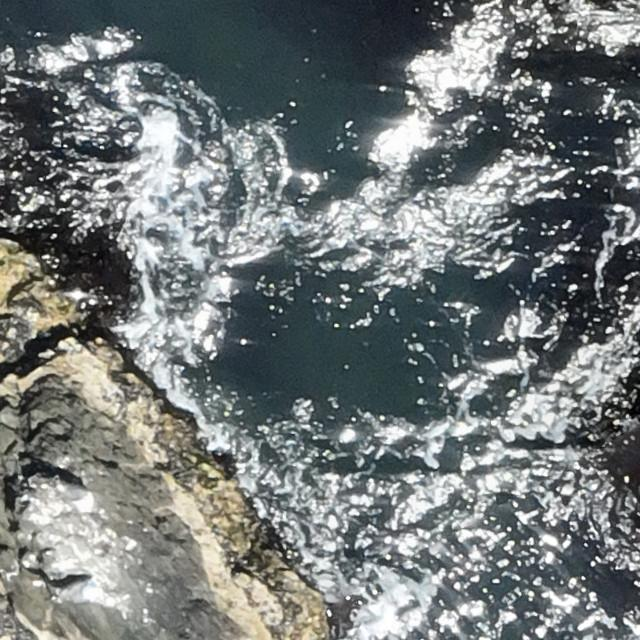umineko: (50, 583, 106, 608), (56, 481, 95, 514)
